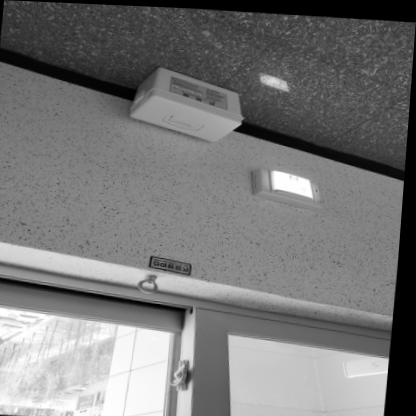DDL: (128, 64, 249, 141)
